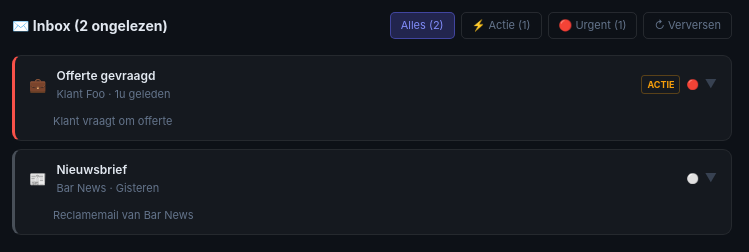
Test: MailTab › filters to high-priority mails only
Check: the text "Offerte gevraagd" is shown, box [56,68,155,82]
Click the button "🔴 Urgent (1)".
click(592, 25)  # box [548,12,637,38]
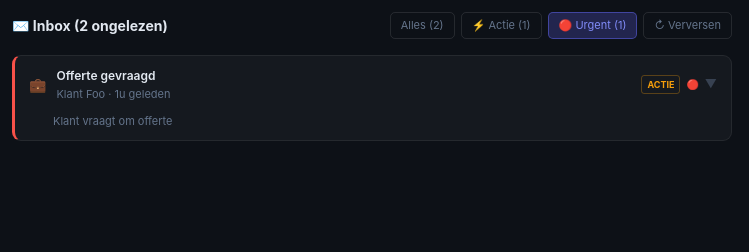
Check: the text "Offerte gevraagd" is shown, box [56,68,155,82]
Check: the text "Nieuwsbrief" is gone
